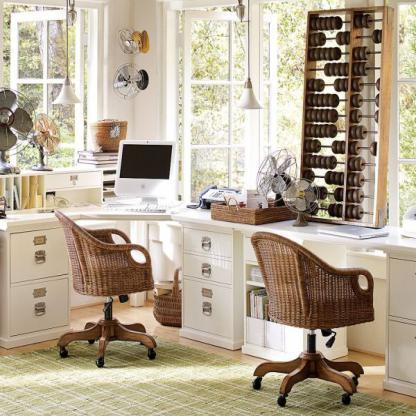chair: (244, 230, 386, 409), (51, 195, 164, 352)
fan: (0, 86, 41, 174)
light: (52, 0, 91, 112), (231, 0, 268, 118)
table: (7, 204, 241, 358), (241, 205, 416, 379)
